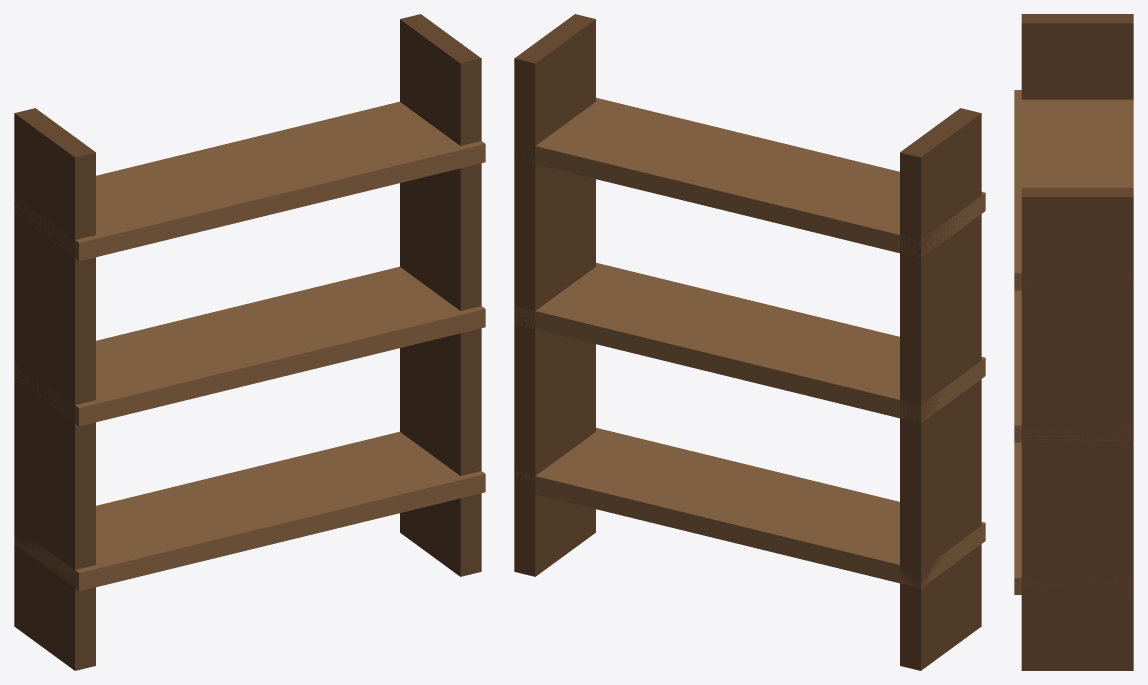
Rendered from wooden_shelves.glb.
3 renders of one model, left to right at view 1: azimuth 30°, elevation 25°; view 2: azimuth 150°, elevation 25°; view 3: azimuth 270°, elevation 25°, orthographic. The views are drawn at different scales.
Parts seen in each view (by area): view 1: wooden_shelves; view 2: wooden_shelves; view 3: wooden_shelves.
Boxes of the visible parts, left/top/right/bottom form: wooden_shelves: left=14, top=14, right=485, bottom=670; wooden_shelves: left=514, top=14, right=985, bottom=670; wooden_shelves: left=1014, top=14, right=1133, bottom=670.
Bounding box in the file's own units: 1.16 × 1.4 × 0.32.
